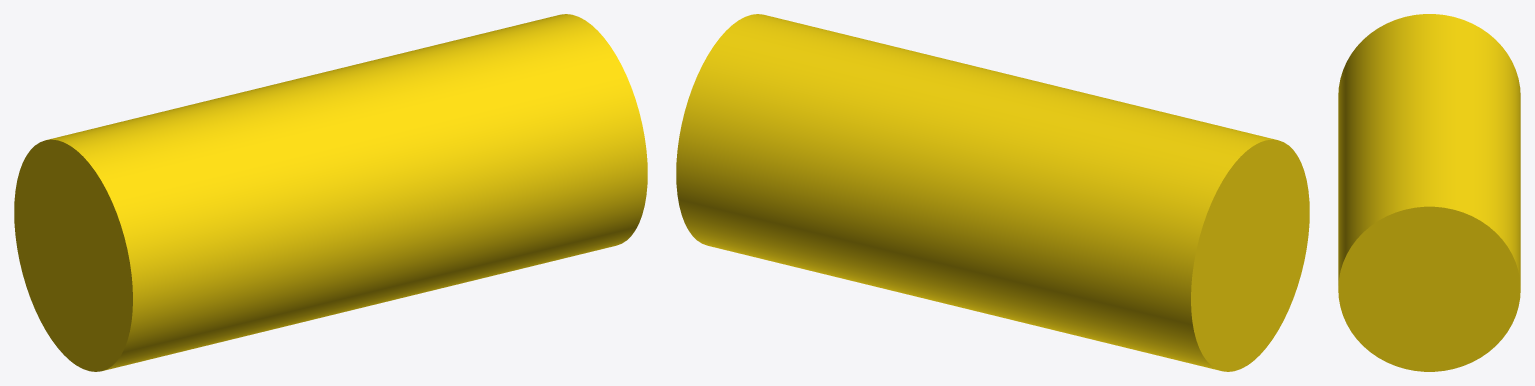
3 renders of one model, left to right at view 1: azimuth 30°, elevation 25°; view 2: azimuth 150°, elevation 25°; view 3: azimuth 270°, elevation 25°, orthographic. The views are drawn at different scales.
Parts seen in each view (by area): view 1: root_node; view 2: root_node; view 3: root_node.
Boxes of the visible parts, bbox=[...] form: root_node: bbox=[14, 14, 647, 371]; root_node: bbox=[676, 14, 1309, 371]; root_node: bbox=[1338, 14, 1520, 371].
Size of the model in its own units: 0.2 by 0.0799 by 0.08.
